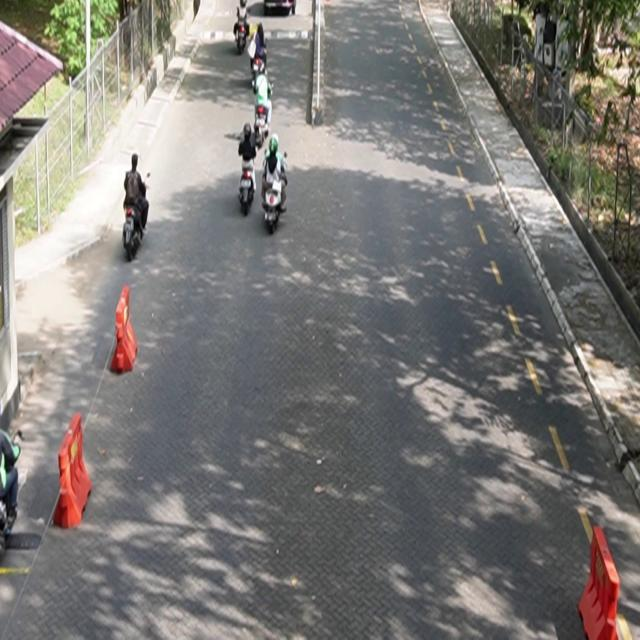car: (264, 1, 297, 16)
